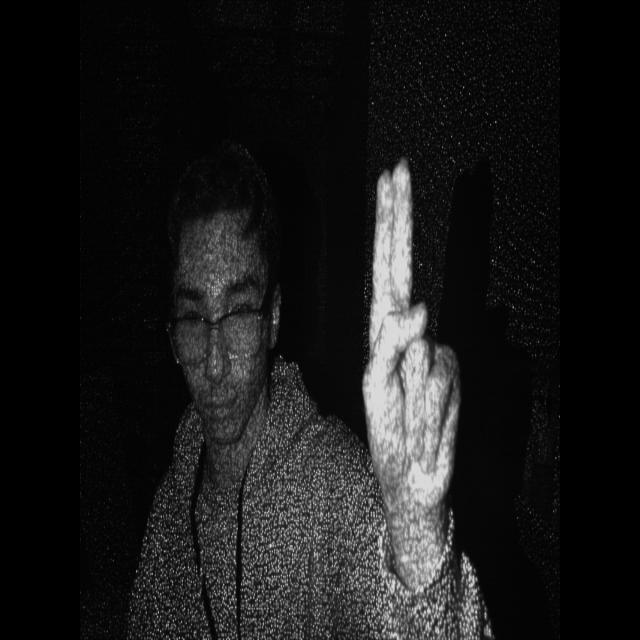U: (361, 154, 472, 522)
